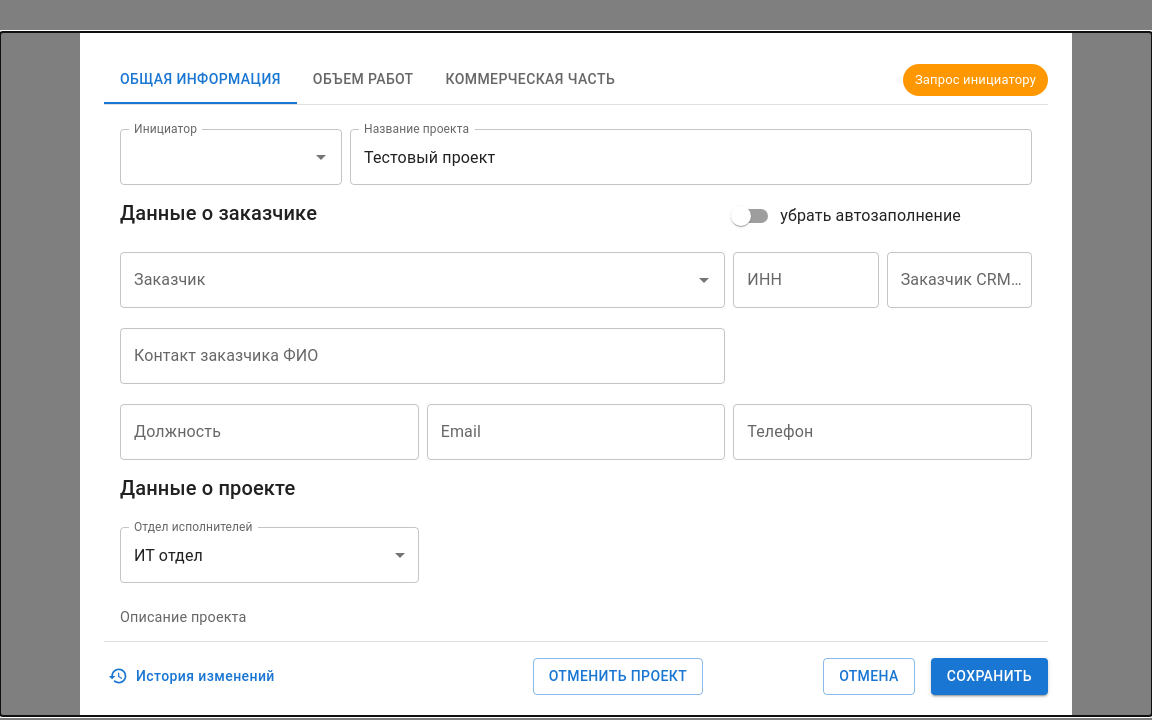
Test: ModalForm › does not allow other users to approve system requirements
The width and height of the screenshot is (1152, 720).
Expected: the field showing "Тестовый проект" is shown, top-left (350, 129), bottom-right (1032, 185)
What coordinates should you click on to do the following:
click the tab "Объем работ"
I would click on:
 (363, 80)
Its box is top-left (297, 56), bottom-right (430, 104).
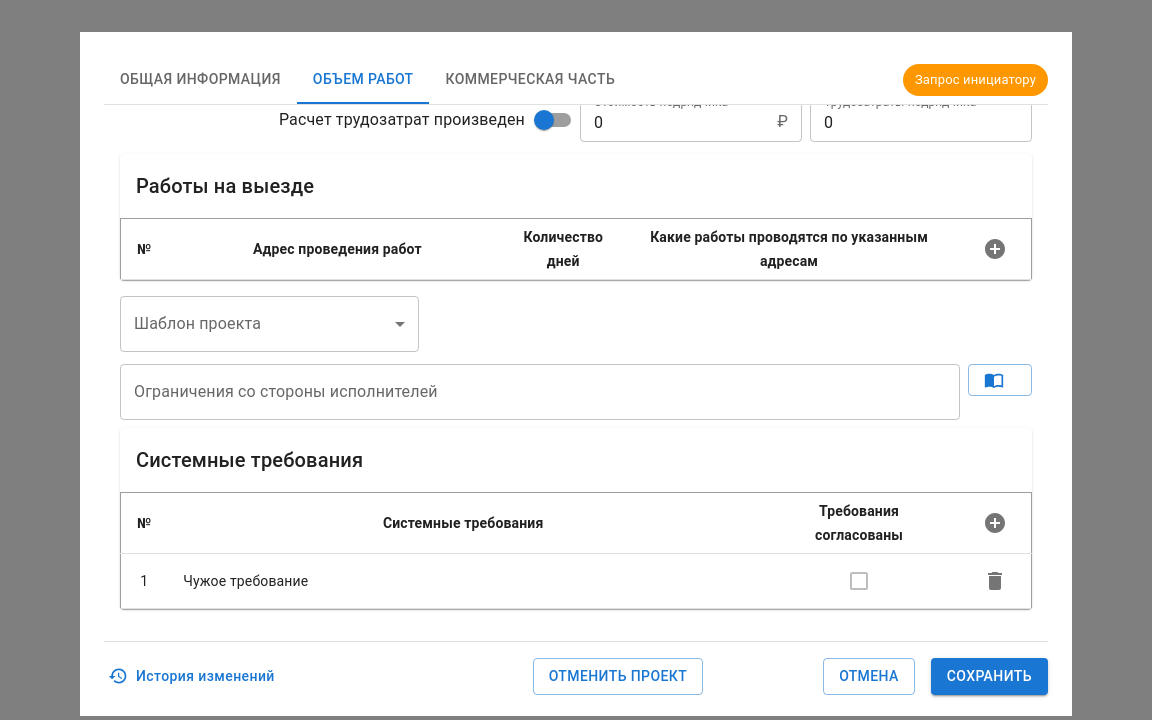
Result: the checkbox in the row of "Чужое требование" is disabled at top-left (847, 569), bottom-right (871, 593)
